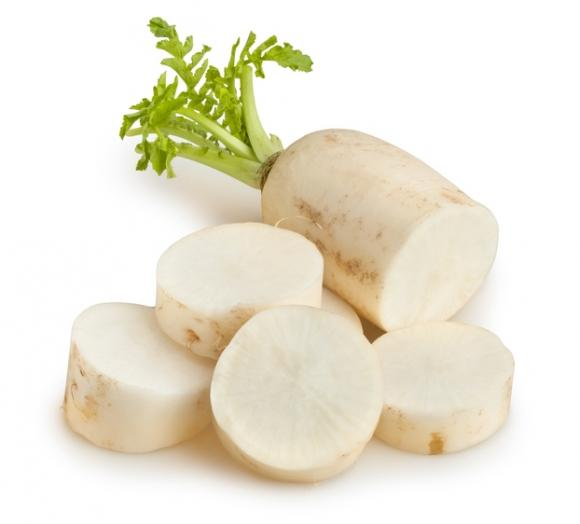radish: (152, 187, 306, 285), (333, 269, 461, 371)
